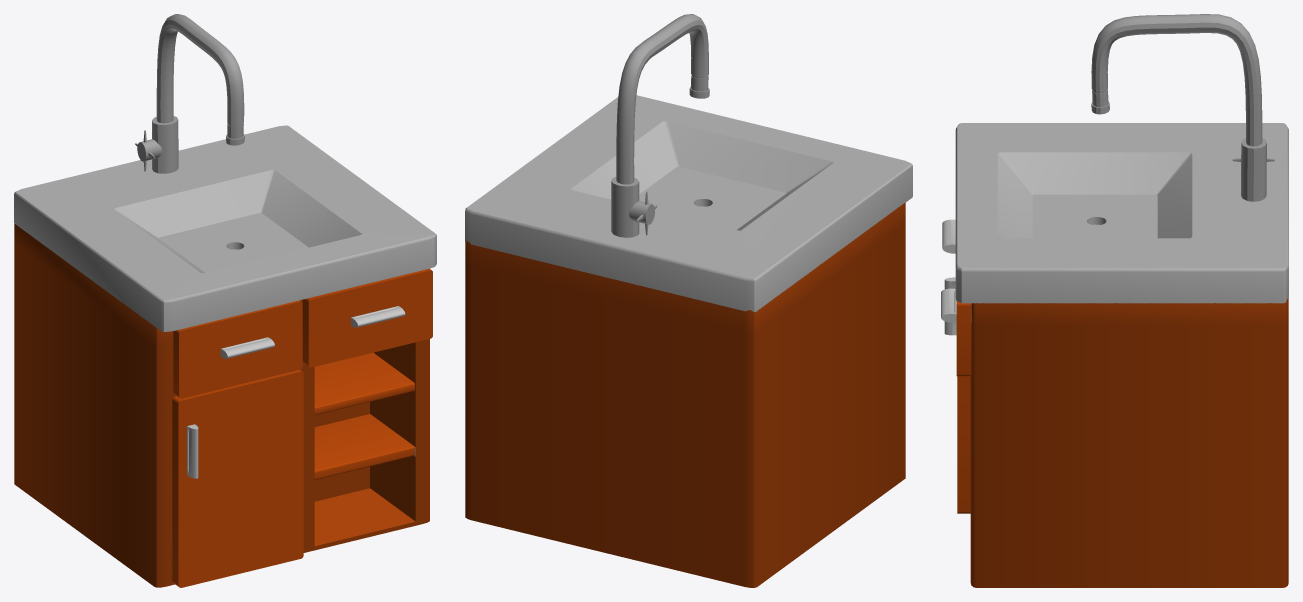
Rendered from Faucet.fbx.
The picture shows the model from 3 angles, left to right: view 1: azimuth 30°, elevation 25°; view 2: azimuth 150°, elevation 25°; view 3: azimuth 270°, elevation 25°; orthographic projection. The views are drawn at different scales.
Parts seen in each view (by area): view 1: Cupboardwithfaucet; view 2: Cupboardwithfaucet; view 3: Cupboardwithfaucet.
Boxes of the visible parts, x1,y1,x2,y2 form: Cupboardwithfaucet: [14, 14, 436, 587]; Cupboardwithfaucet: [465, 14, 912, 587]; Cupboardwithfaucet: [941, 14, 1288, 587].
Bounding box in the file's own units: 83.29 × 132 × 83.34.
Materials: 1 (1 with a texture image).
